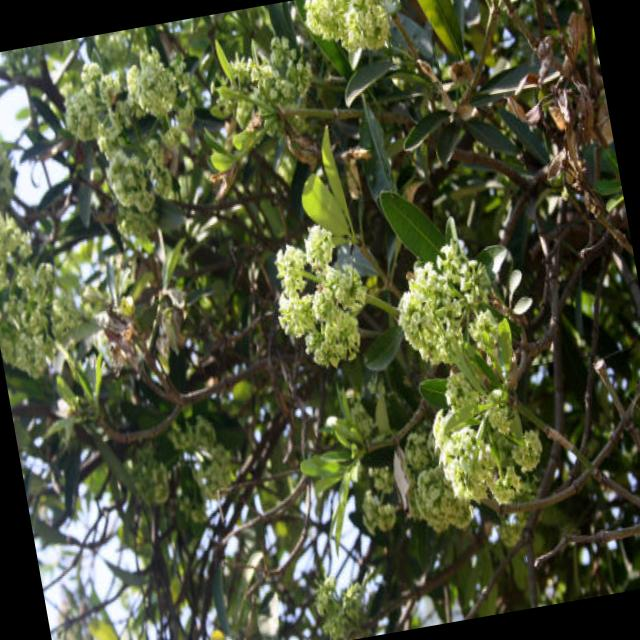Indian Pulai: (219, 114, 640, 604), (0, 146, 192, 454), (42, 23, 292, 220), (314, 0, 469, 126)
